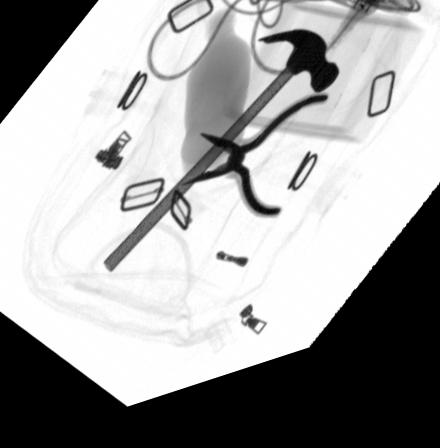Hammer: (102, 47, 340, 278)
Pliers: (179, 112, 330, 234)
